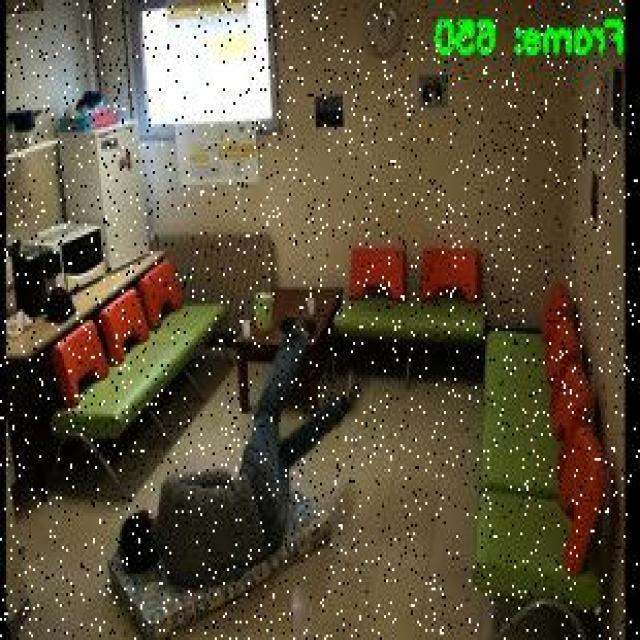fall: (118, 306, 362, 598)
